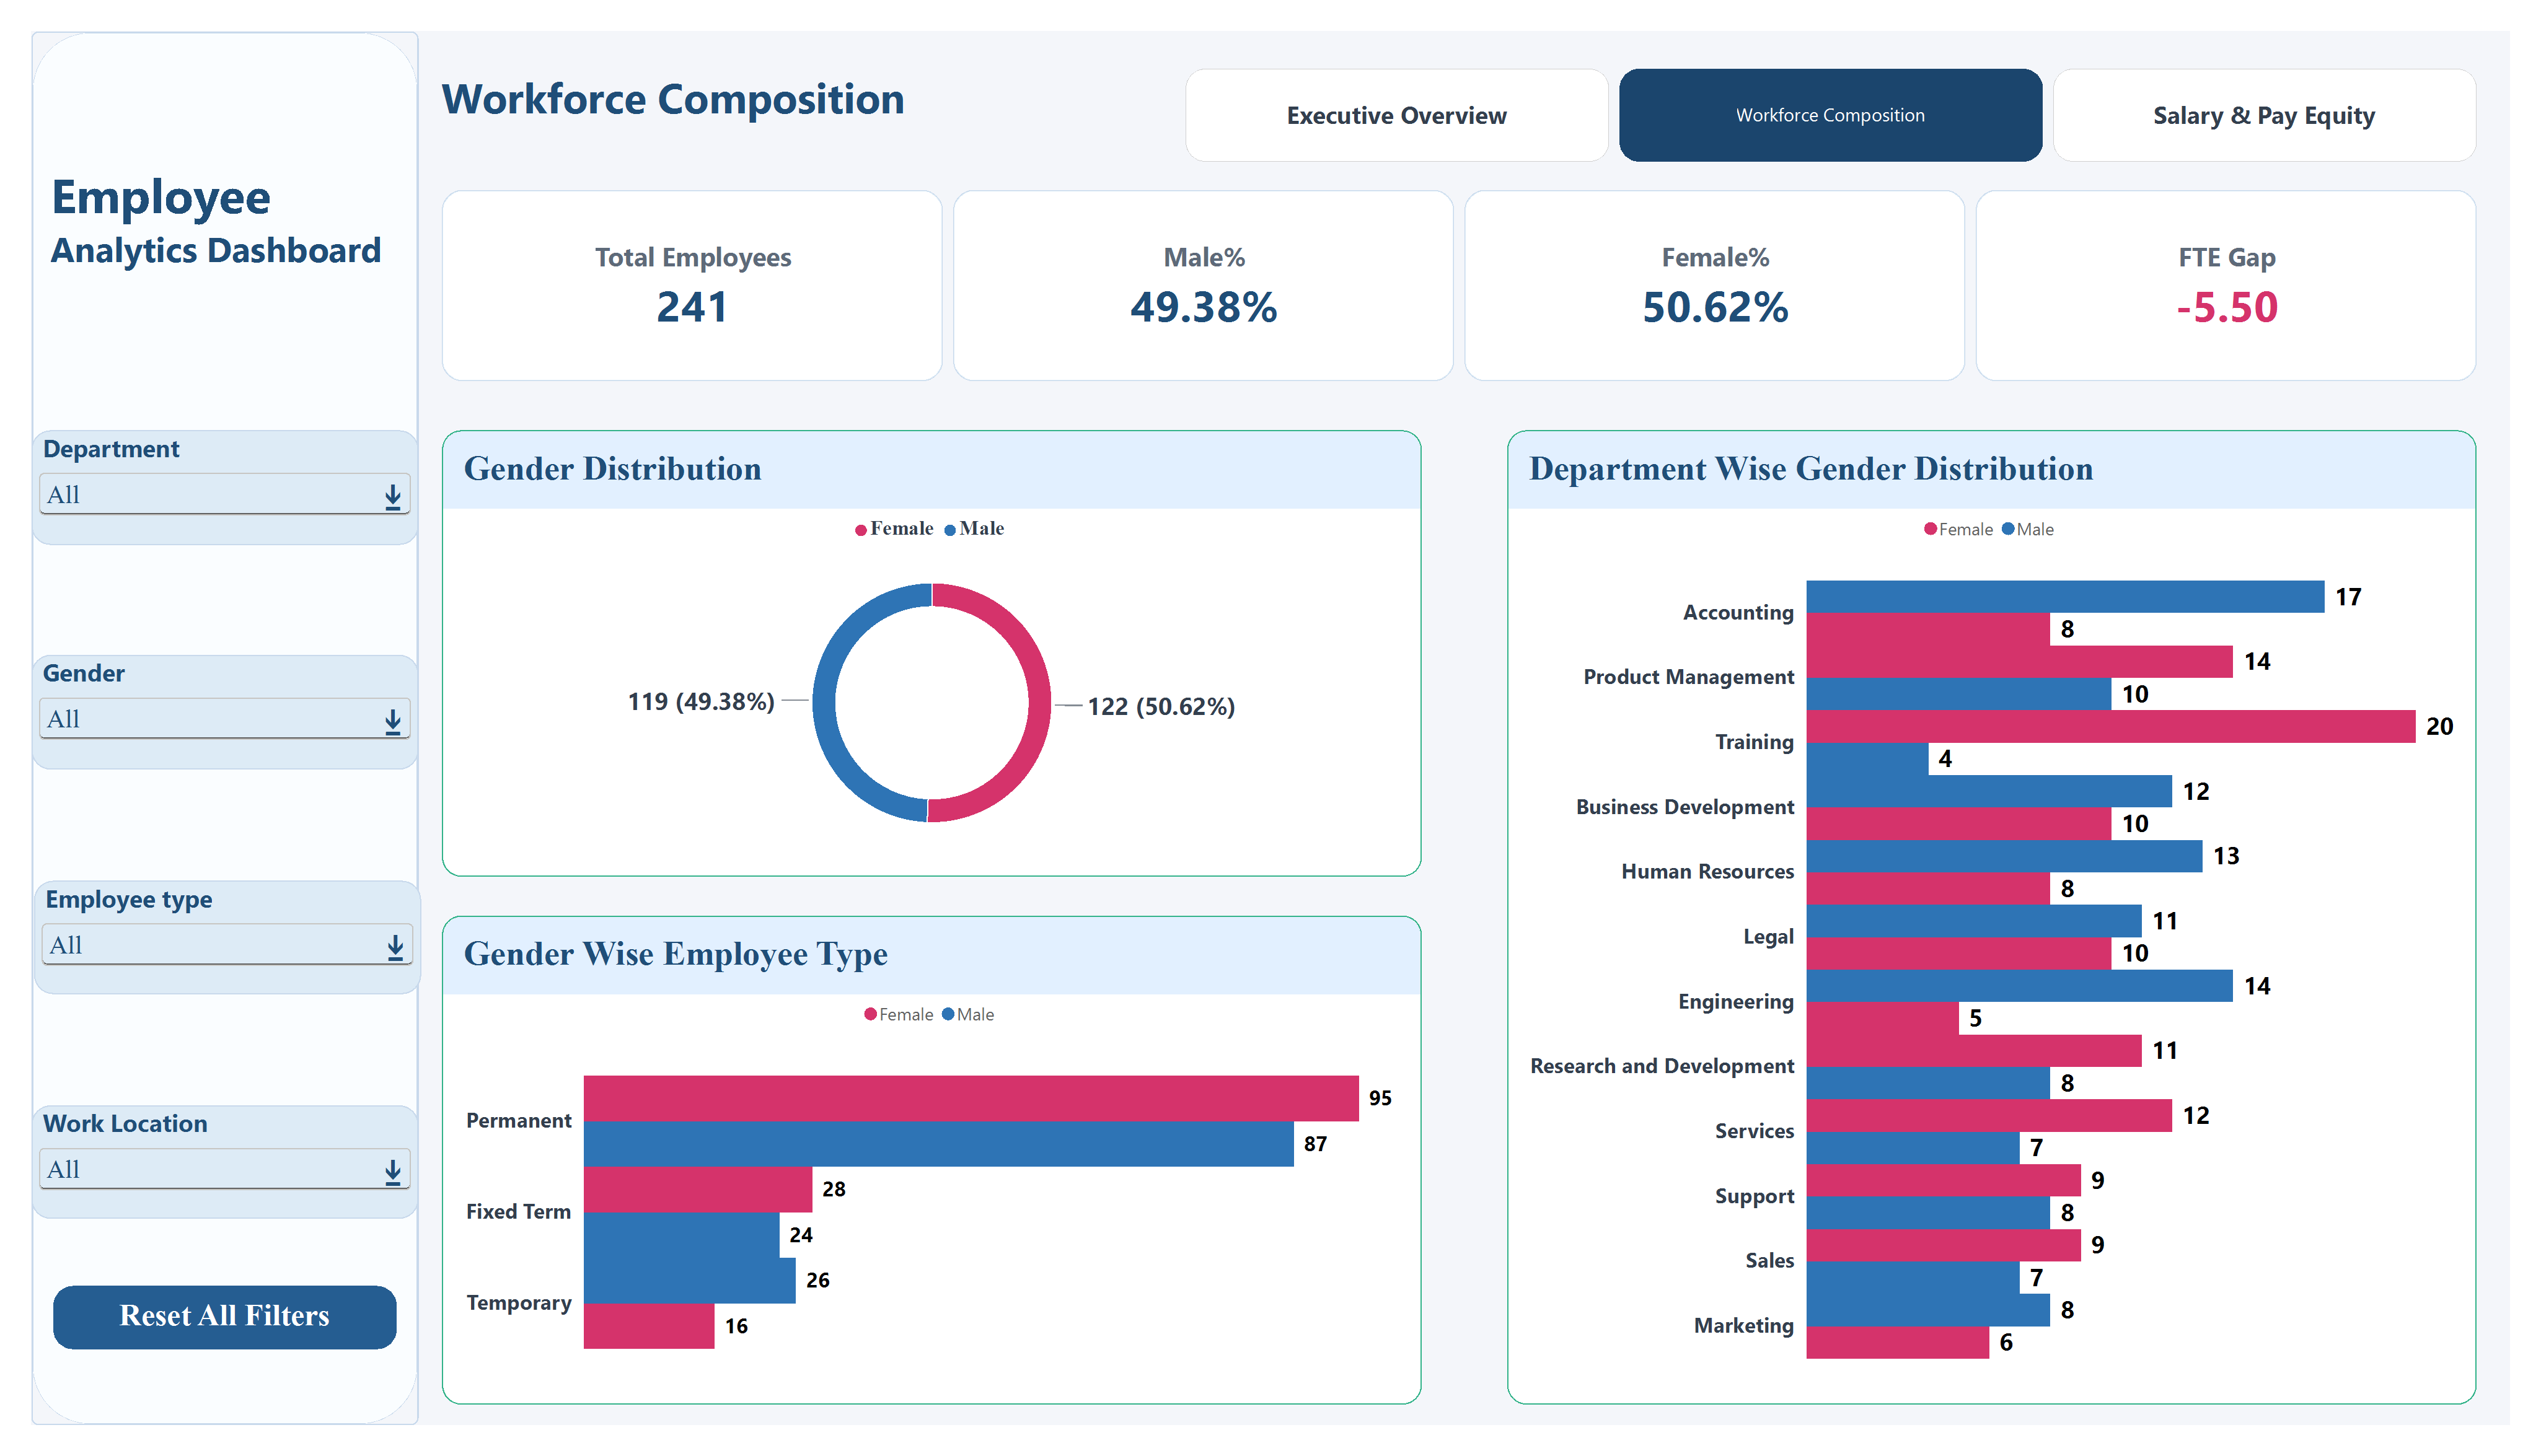

The page's visual inventory and layout, read from the dashboard file:
{"tool":"powerbi","page":{"name":"Workforce Composition","canvas":[1920,1080],"ordinal":1},"visuals":[{"type":"cardVisual","fields":{"Data":["Table.Total Empl","Table.Male%","Table.Female%","Table.FTE Gap"]},"box":[318.4,123.3,1575.5,147.2],"z":0},{"type":"shape","box":[0,0,300,1080.4],"z":1000},{"type":"clusteredBarChart","title":"Gender Wise Employee Type","fields":{"Category":["Employees Data.Employee type"],"Series":["Employees Data.Gender"],"Y":["CountNonNull(Employees Data.Gender)"]},"box":[318.4,684.7,758.3,379.1],"z":2000},{"type":"clusteredBarChart","title":"Department Wise Gender Distribution ","fields":{"Category":["Employees Data.Department"],"Series":["Employees Data.Gender"],"Y":["Table.Total Employees"]},"box":[1143,309.2,750.9,754.6],"z":3000},{"type":"textbox","box":[318.4,29.4,368.1,71.8],"z":4000},{"type":"slicer","fields":{"Values":["Employees Data.Department"]},"box":[0,309.2,300,88.3],"z":5000},{"type":"slicer","fields":{"Values":["Employees Data.Employee type"]},"box":[1.8,657.7,300,88.3],"z":6000},{"type":"slicer","fields":{"Values":["Employees Data.Gender"]},"box":[0,483.4,300,88.3],"z":7000},{"type":"slicer","fields":{"Values":["Employees Data.Work Locationm"]},"box":[0,831.9,300,88.3],"z":8000},{"type":"donutChart","title":"Gender Distribution ","fields":{"Category":["Employees Data.Gender"],"Y":["Table.Total Empl"]},"box":[318.4,309.2,758.3,346],"z":9000},{"type":"pageNavigator","box":[894.5,29.4,999.4,71.8],"z":10000},{"type":"textbox","box":[14.7,101.2,285.3,141.7],"z":11000},{"type":"actionButton","box":[16.6,971.8,266.9,49.7],"z":12000}]}

Visuals, with their boxes on the page's 1920x1080 design canvas (x1, y1, x2, y2). These are canvas units, not pixel positions in the 2541x1456 screenshot, which may show the page scaled, cropped or inside an application window:
cardVisual - Table.Total Empl x Table.Male%: pyautogui.locateOnScreen(318, 123, 1894, 270)
shape: pyautogui.locateOnScreen(0, 0, 300, 1080)
"Gender Wise Employee Type" clusteredBarChart: pyautogui.locateOnScreen(318, 685, 1077, 1064)
"Department Wise Gender Distribution " clusteredBarChart: pyautogui.locateOnScreen(1143, 309, 1894, 1064)
textbox: pyautogui.locateOnScreen(318, 29, 686, 101)
slicer - Employees Data.Department: pyautogui.locateOnScreen(0, 309, 300, 398)
slicer - Employees Data.Employee type: pyautogui.locateOnScreen(2, 658, 302, 746)
slicer - Employees Data.Gender: pyautogui.locateOnScreen(0, 483, 300, 572)
slicer - Employees Data.Work Locationm: pyautogui.locateOnScreen(0, 832, 300, 920)
"Gender Distribution " donutChart: pyautogui.locateOnScreen(318, 309, 1077, 655)
pageNavigator: pyautogui.locateOnScreen(894, 29, 1894, 101)
textbox: pyautogui.locateOnScreen(15, 101, 300, 243)
actionButton: pyautogui.locateOnScreen(17, 972, 284, 1022)
